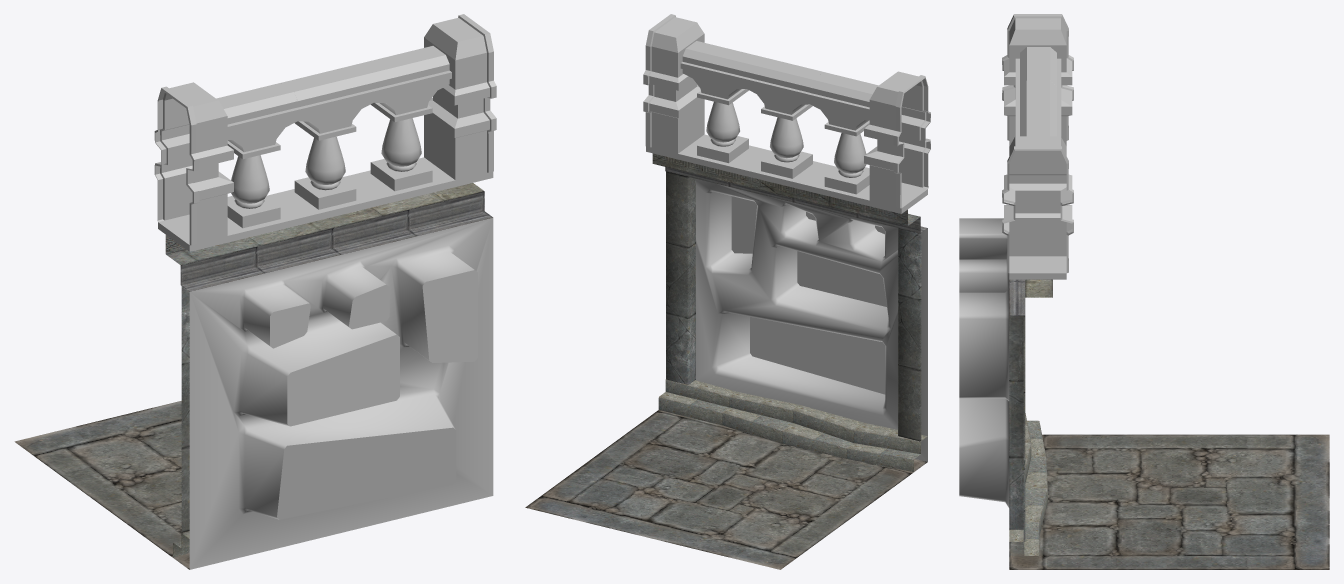
The model's file is UnderCatacomb1.FBX.
3 views of the same model, side by side, from view 1: azimuth 30°, elevation 25°; view 2: azimuth 150°, elevation 25°; view 3: azimuth 270°, elevation 25° (orthographic). The views are drawn at different scales.
Visible parts, largest first — view 1: Object07; view 2: Object07; view 3: Object07.
Boxes of the visible parts, x1=… form: Object07: x1=14, y1=14, x2=496, y2=569; Object07: x1=525, y1=14, x2=930, y2=569; Object07: x1=959, y1=14, x2=1329, y2=569.
Size of the model in its own units: 500 by 725 by 578.
